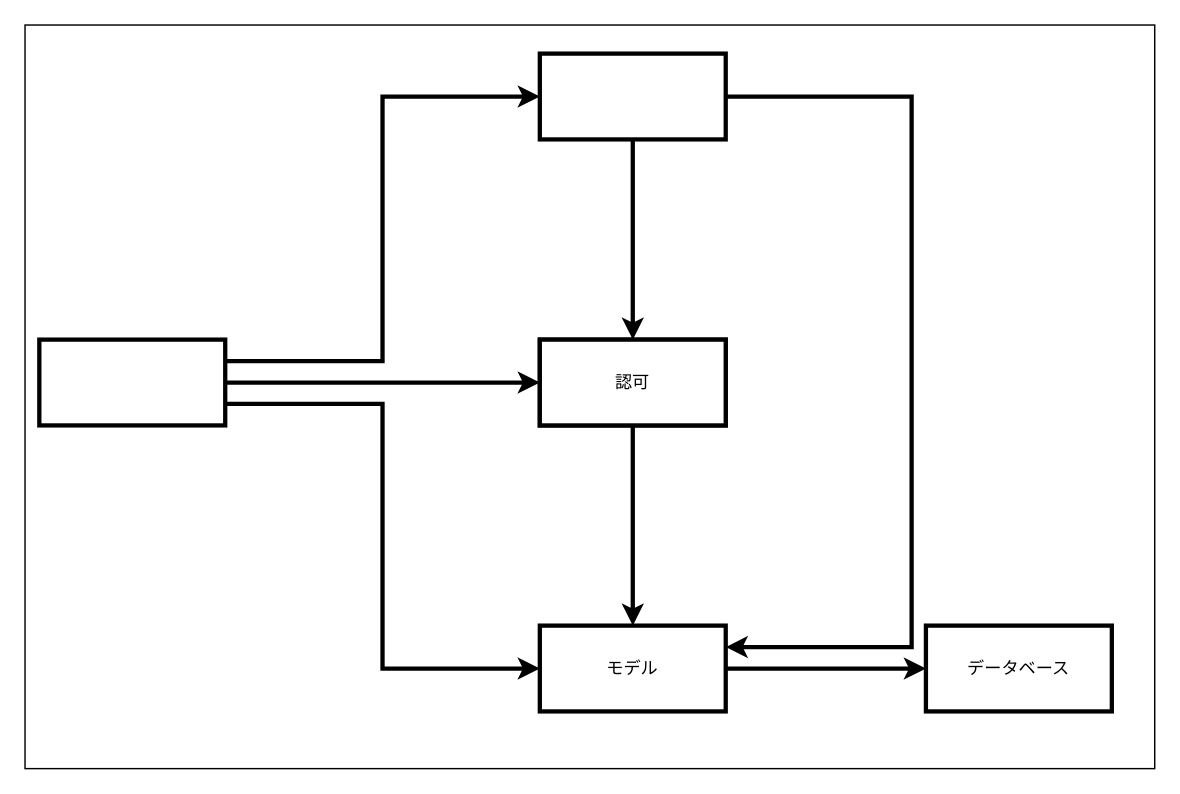
The diagram is 1180 pixels wide and 794 high, and some of its shapes have lost their labels. The shapes that lost their labels are listed below. From the top down, each one's centre as x and y in pixels, then its label:
the point at 632,96: ビュー
the point at 131,382: ルーティング
